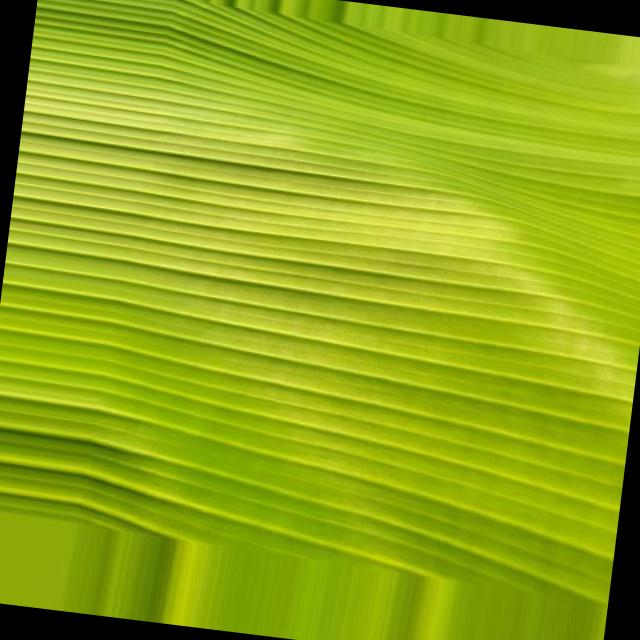Banana_Healthy: (105, 93, 579, 500)
